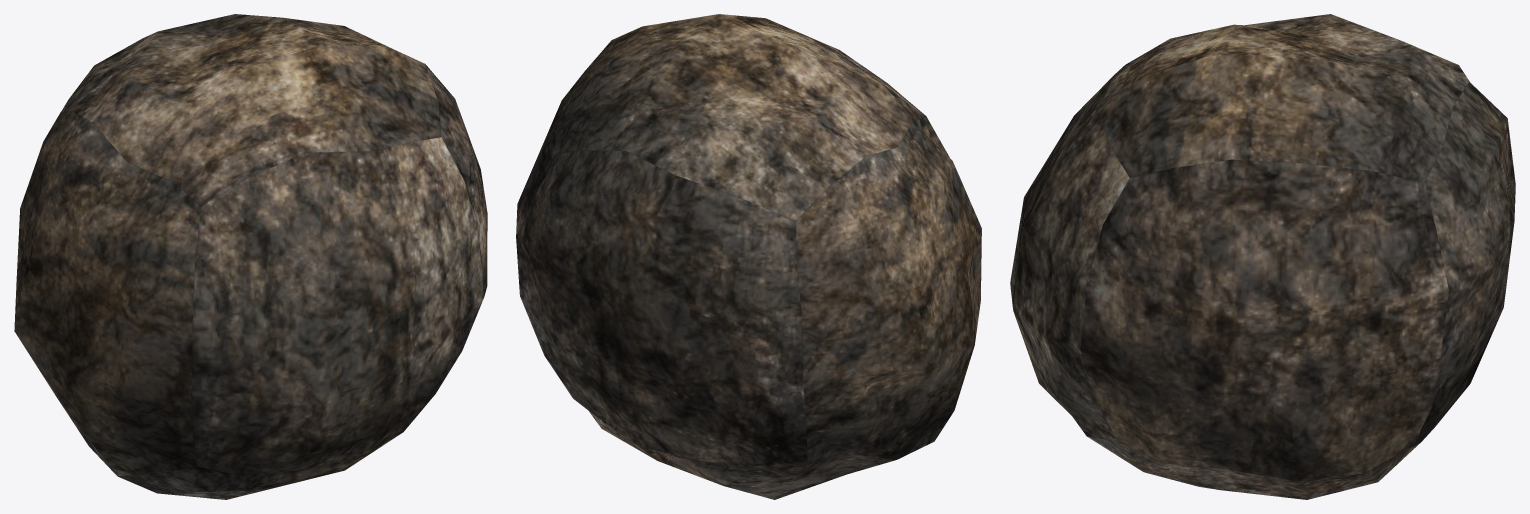
The model's file is rock_d_05.obj.
3 views of the same model, side by side, from view 1: azimuth 30°, elevation 25°; view 2: azimuth 150°, elevation 25°; view 3: azimuth 270°, elevation 25° (orthographic). The views are drawn at different scales.
Parts seen in each view (by area): view 1: rockLP001; view 2: rockLP001; view 3: rockLP001.
Part boxes in pixels (box(x1,y1,x2,y2)): rockLP001: box(14, 14, 487, 499); rockLP001: box(516, 14, 981, 499); rockLP001: box(1010, 14, 1515, 499).
Bounding box in the file's own units: 2.46 × 2.46 × 2.39.
Materials: 1 (1 with a texture image).
